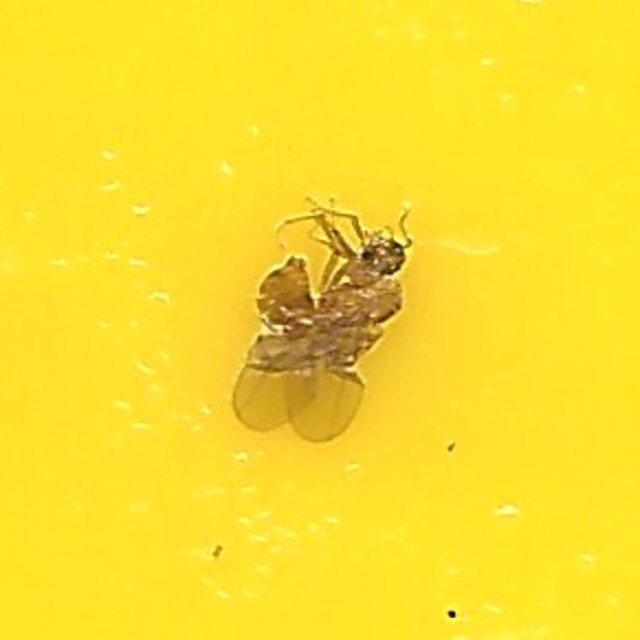Hymenoptera: (220, 202, 420, 438)
